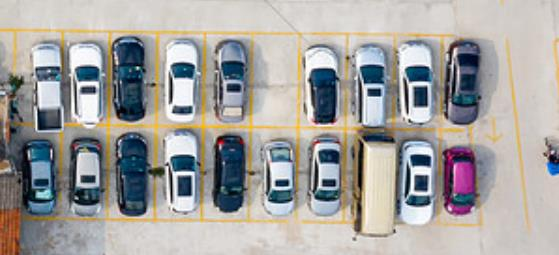car: (350, 131, 397, 239), (108, 32, 149, 123), (396, 135, 436, 227), (28, 40, 67, 134), (349, 42, 391, 129), (67, 40, 107, 130), (162, 126, 202, 215), (443, 37, 483, 126), (300, 41, 341, 127), (395, 39, 436, 125), (163, 36, 203, 122), (212, 37, 250, 125), (305, 134, 345, 217), (64, 134, 103, 218), (113, 131, 151, 217), (259, 138, 298, 216), (212, 131, 249, 213), (22, 138, 59, 218), (440, 145, 477, 214)
